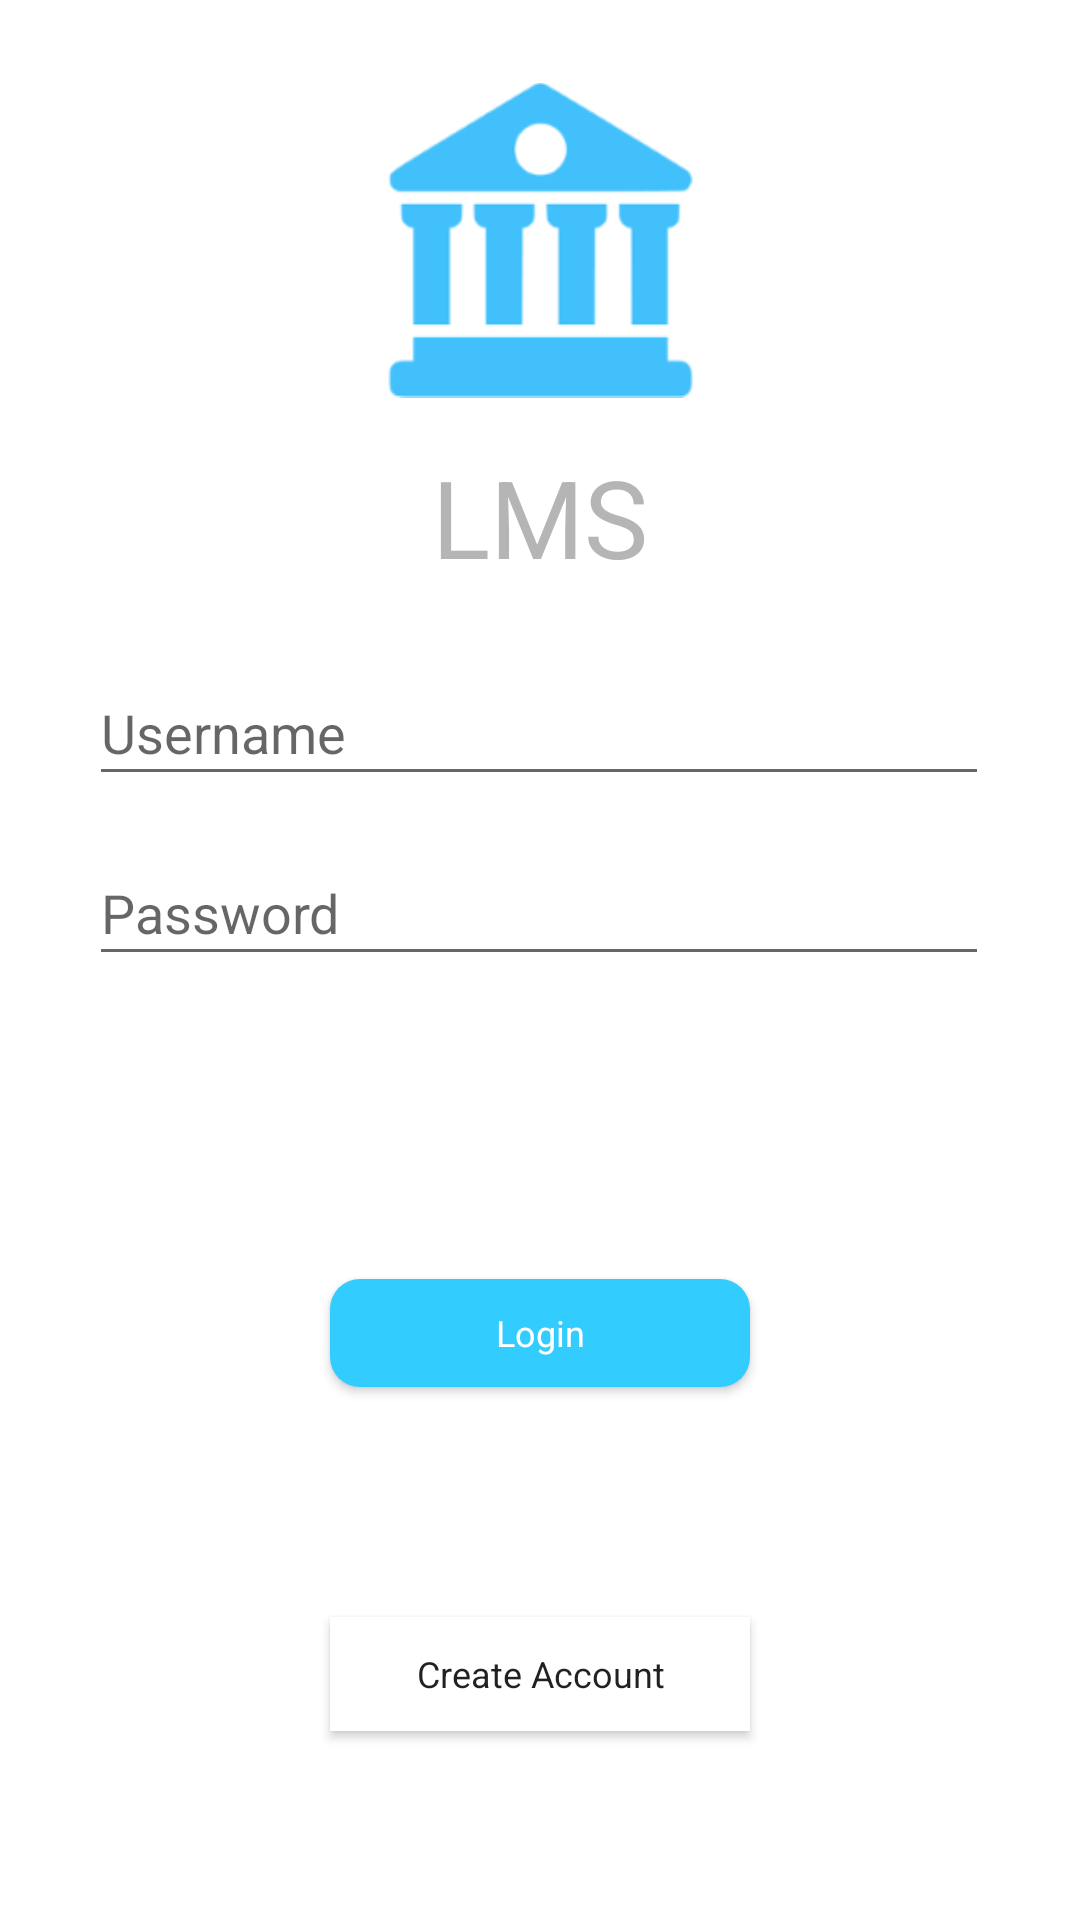

Named icons in this screenshot (1080w x 1920h) and their centers, (x,y):
appicon: (540,240)
